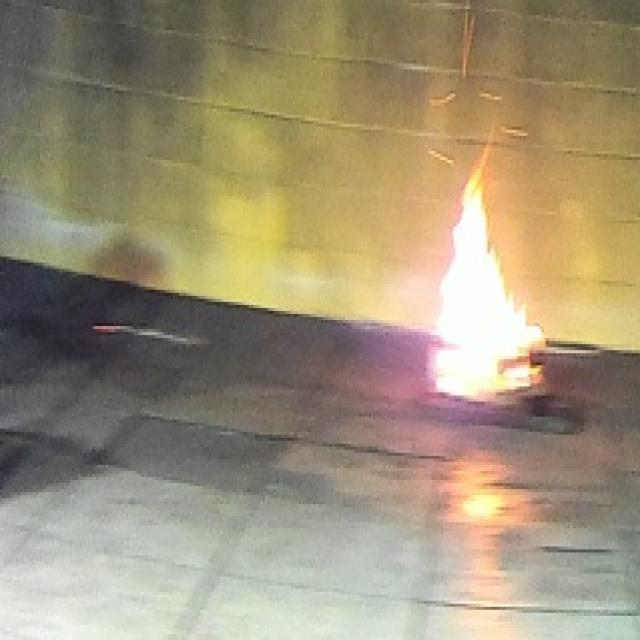Fire: (436, 124, 546, 398)
